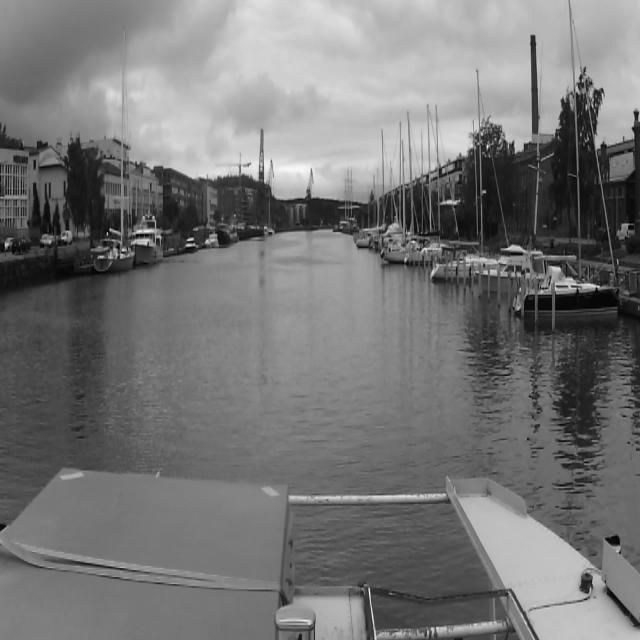ship: (513, 0, 619, 316), (430, 68, 488, 280), (94, 28, 134, 276), (134, 210, 164, 266), (218, 218, 236, 246), (184, 238, 199, 254), (205, 239, 211, 250)
